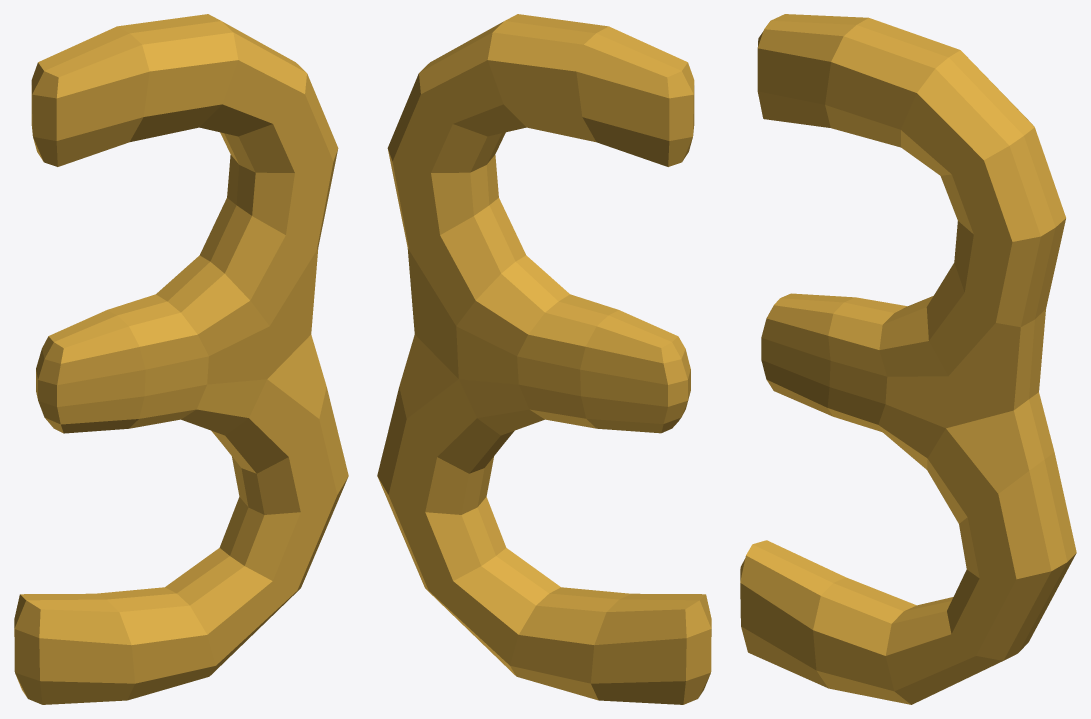
3 views of the same model, side by side, from view 1: azimuth 30°, elevation 25°; view 2: azimuth 150°, elevation 25°; view 3: azimuth 330°, elevation 25° (orthographic).
Parts seen in each view (by area): view 1: 3; view 2: 3; view 3: 3.
Part boxes in pixels (bbox=[...]): 3: bbox=[14, 14, 348, 704]; 3: bbox=[377, 14, 711, 704]; 3: bbox=[740, 14, 1076, 704].
Size of the model in its own units: 35.57 by 68.76 by 9.2.
